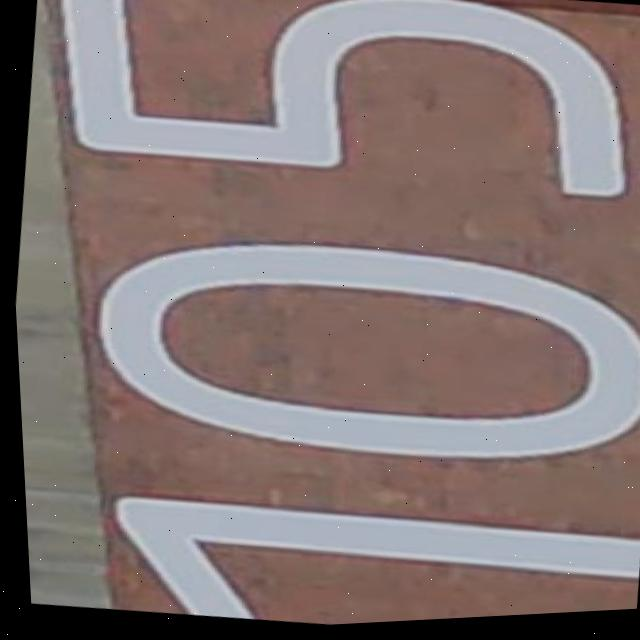character: (71, 197, 640, 508), (29, 0, 640, 238), (94, 463, 640, 636)
